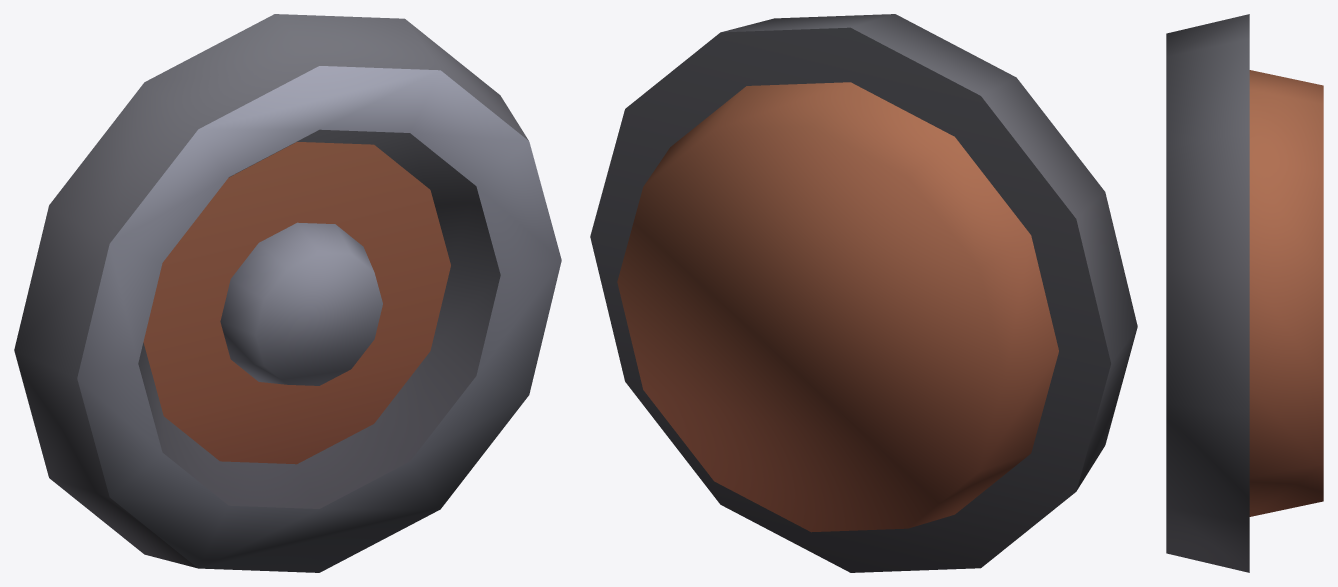
Rendered from shield-round.glb.
The picture shows the model from 3 angles, left to right: view 1: azimuth 30°, elevation 25°; view 2: azimuth 150°, elevation 25°; view 3: azimuth 270°, elevation 25°; orthographic projection. The views are drawn at different scales.
Visible parts, largest first — view 1: shield-round; view 2: shield-round; view 3: shield-round.
Part boxes in pixels (box(x1,y1,x2,y2)): shield-round: box(14, 14, 561, 572); shield-round: box(590, 14, 1137, 572); shield-round: box(1166, 14, 1323, 572).
Bounding box in the file's own units: 0.75 × 0.75 × 0.2104.
